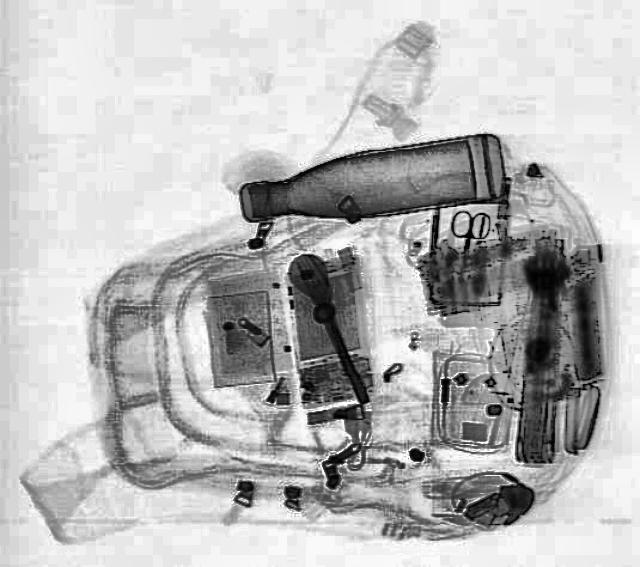Scissors: (440, 208, 492, 284)
